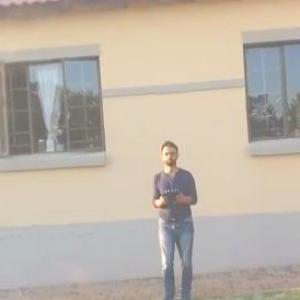follow: (150, 135, 206, 299)
